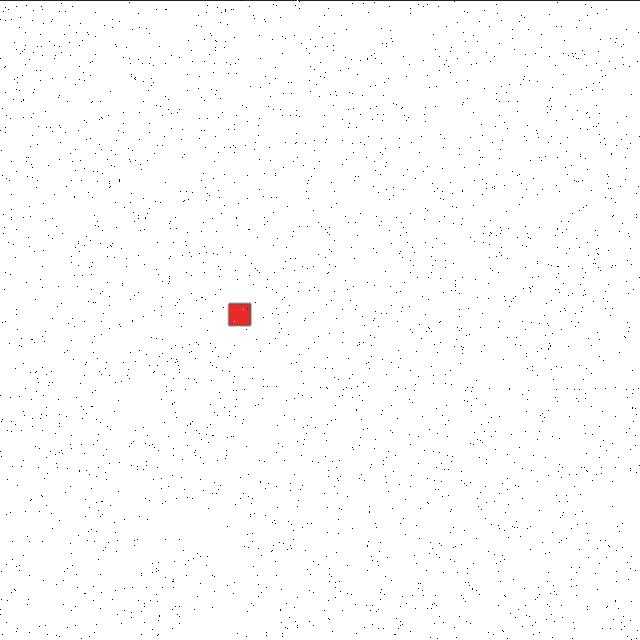3070b: (224, 296, 257, 330)
